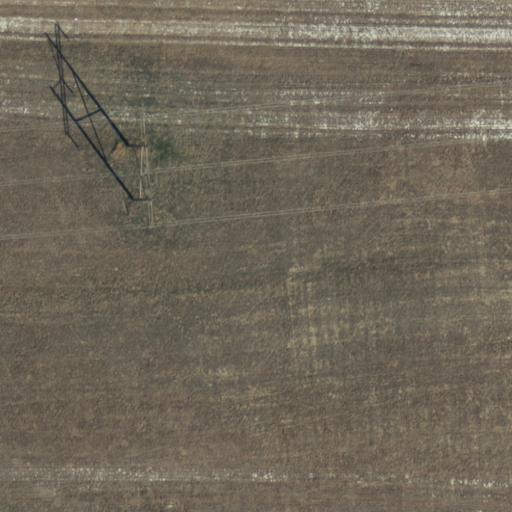TT: (110, 103, 170, 243)
